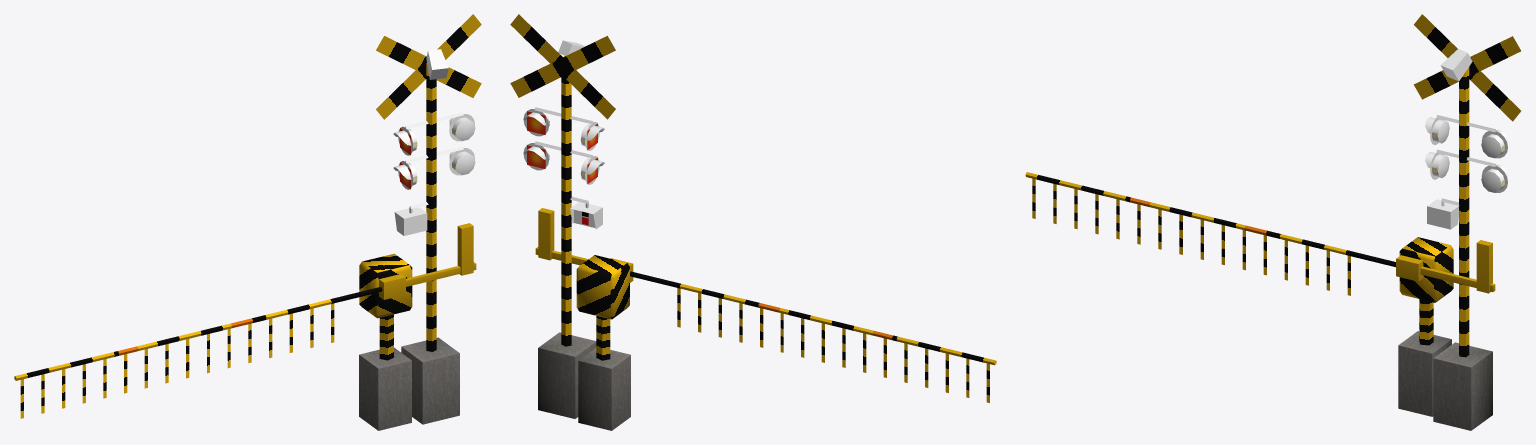
File: HUMIKIRI01_RIGHTBAR.glb
3 renders of one model, left to right at view 1: azimuth 30°, elevation 25°; view 2: azimuth 150°, elevation 25°; view 3: azimuth 330°, elevation 25°, orthographic.
Parts seen in each view (by area): view 1: HUMIKIRI1, BAR1, OBI1; view 2: HUMIKIRI1, BAR1, OBI1; view 3: HUMIKIRI1, BAR1, OBI1.
Part boxes in pixels (x1,y1,x2,y2): HUMIKIRI1: (359, 14, 481, 430); BAR1: (14, 223, 476, 380); OBI1: (20, 303, 334, 418); HUMIKIRI1: (510, 14, 630, 430); BAR1: (535, 208, 996, 365); OBI1: (677, 288, 989, 402); HUMIKIRI1: (1398, 14, 1520, 430); BAR1: (1025, 172, 1495, 293); OBI1: (1032, 178, 1350, 295).
Bounding box in the file's own units: 18.14 × 14.01 × 1.82.
Materials: 12 (12 with a texture image).
